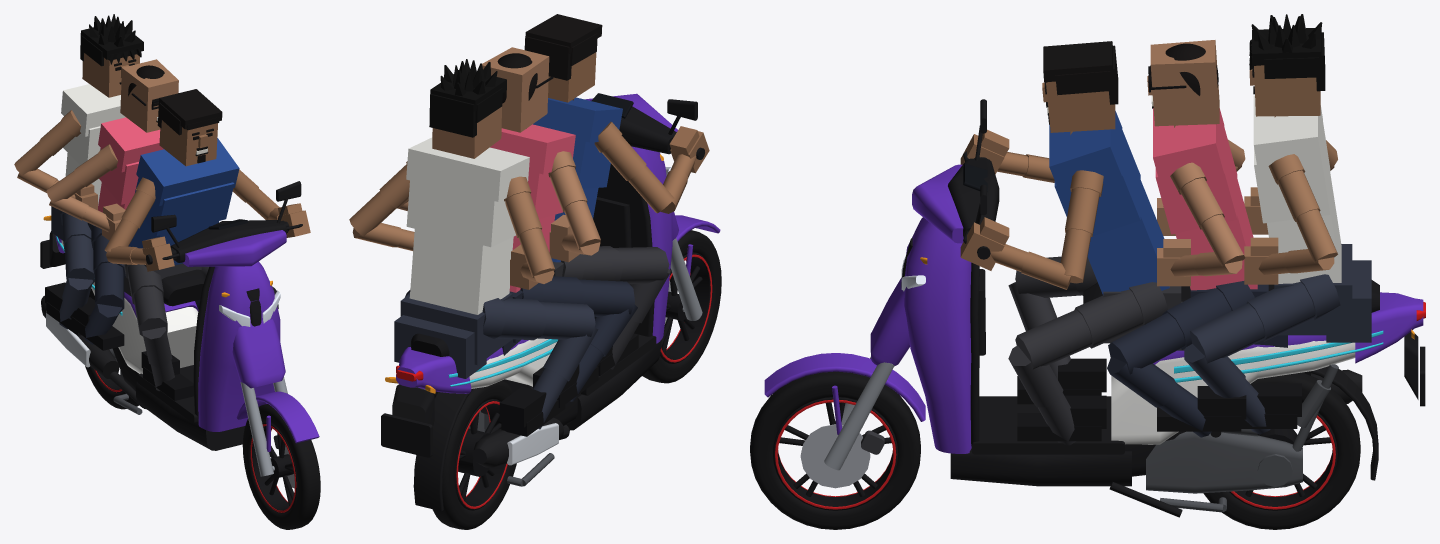
File: mio-nightshift.glb
The picture shows the model from 3 angles, left to right: view 1: azimuth 30°, elevation 25°; view 2: azimuth 150°, elevation 25°; view 3: azimuth 270°, elevation 25°; orthographic projection. The views are drawn at different scales.
Visible parts, largest first — view 1: Torso (×3), Body, Leg_R (×3), Head (×3), BlackTrim, Arm_R (×3), Hair (×3), Fender, Spin (×2), Leg_R_Lower (×3), Shoe_R (×3), SidePanels (+15 smaller); view 2: Torso (×3), BlackTrim, Leg_R (×3), Hair (×3), Arm_R (×3), Head (×3), Spin (×2), Rim (×2), Leg_R_Lower (×3), Pelvis, Body, Shoe_R (×3) (+17 smaller); view 3: Torso (×3), Leg_L (×3), BlackTrim, Spin (×2), Body, Head (×3), Engine, Arm_L (×3), Hair (×3), Leg_L_Lower (×3), Shoe_L (×3), SidePanels (+16 smaller).
Part boxes in pixels (x1,y1,x2,y2): Torso (×3): (61,84,239,265); Body: (55,235,280,431); Leg_R (×3): (60,210,167,336); Head (×3): (82,53,217,166); BlackTrim: (40,231,261,450); Arm_R (×3): (14,110,155,251); Hair (×3): (80,14,222,135); Fender: (232,319,319,451); Spin (×2): (85,288,320,529); Leg_R_Lower (×3): (59,278,174,391); Shoe_R (×3): (45,282,193,400); SidePanels: (61,240,198,373); Torso (×3): (406,97,622,314); BlackTrim: (381,163,661,511); Leg_R (×3): (482,246,669,340); Hair (×3): (429,14,602,137); Arm_R (×3): (504,121,674,277); Head (×3): (432,47,596,158); Spin (×2): (432,230,721,529); Rim (×2): (455,252,710,510); Leg_R_Lower (×3): (533,269,670,429); Pelvis: (394,293,512,378); Body: (396,146,672,393); Shoe_R (×3): (499,333,638,436); Torso (×3): (1049,95,1341,295); Leg_L (×3): (1015,274,1340,374); BlackTrim: (901,238,1425,517); Spin (×2): (750,371,1360,529); Body: (903,217,1423,453); Head (×3): (1042,40,1320,134); Engine: (1146,364,1338,512); Arm_L (×3): (1060,154,1337,283); Hair (×3): (1043,14,1325,104); Leg_L_Lower (×3): (1008,343,1270,445); Shoe_L (×3): (1017,383,1301,441); SidePanels: (1111,340,1355,444).
Size of the model in its own units: 0.7795 by 1.6 by 1.94.
